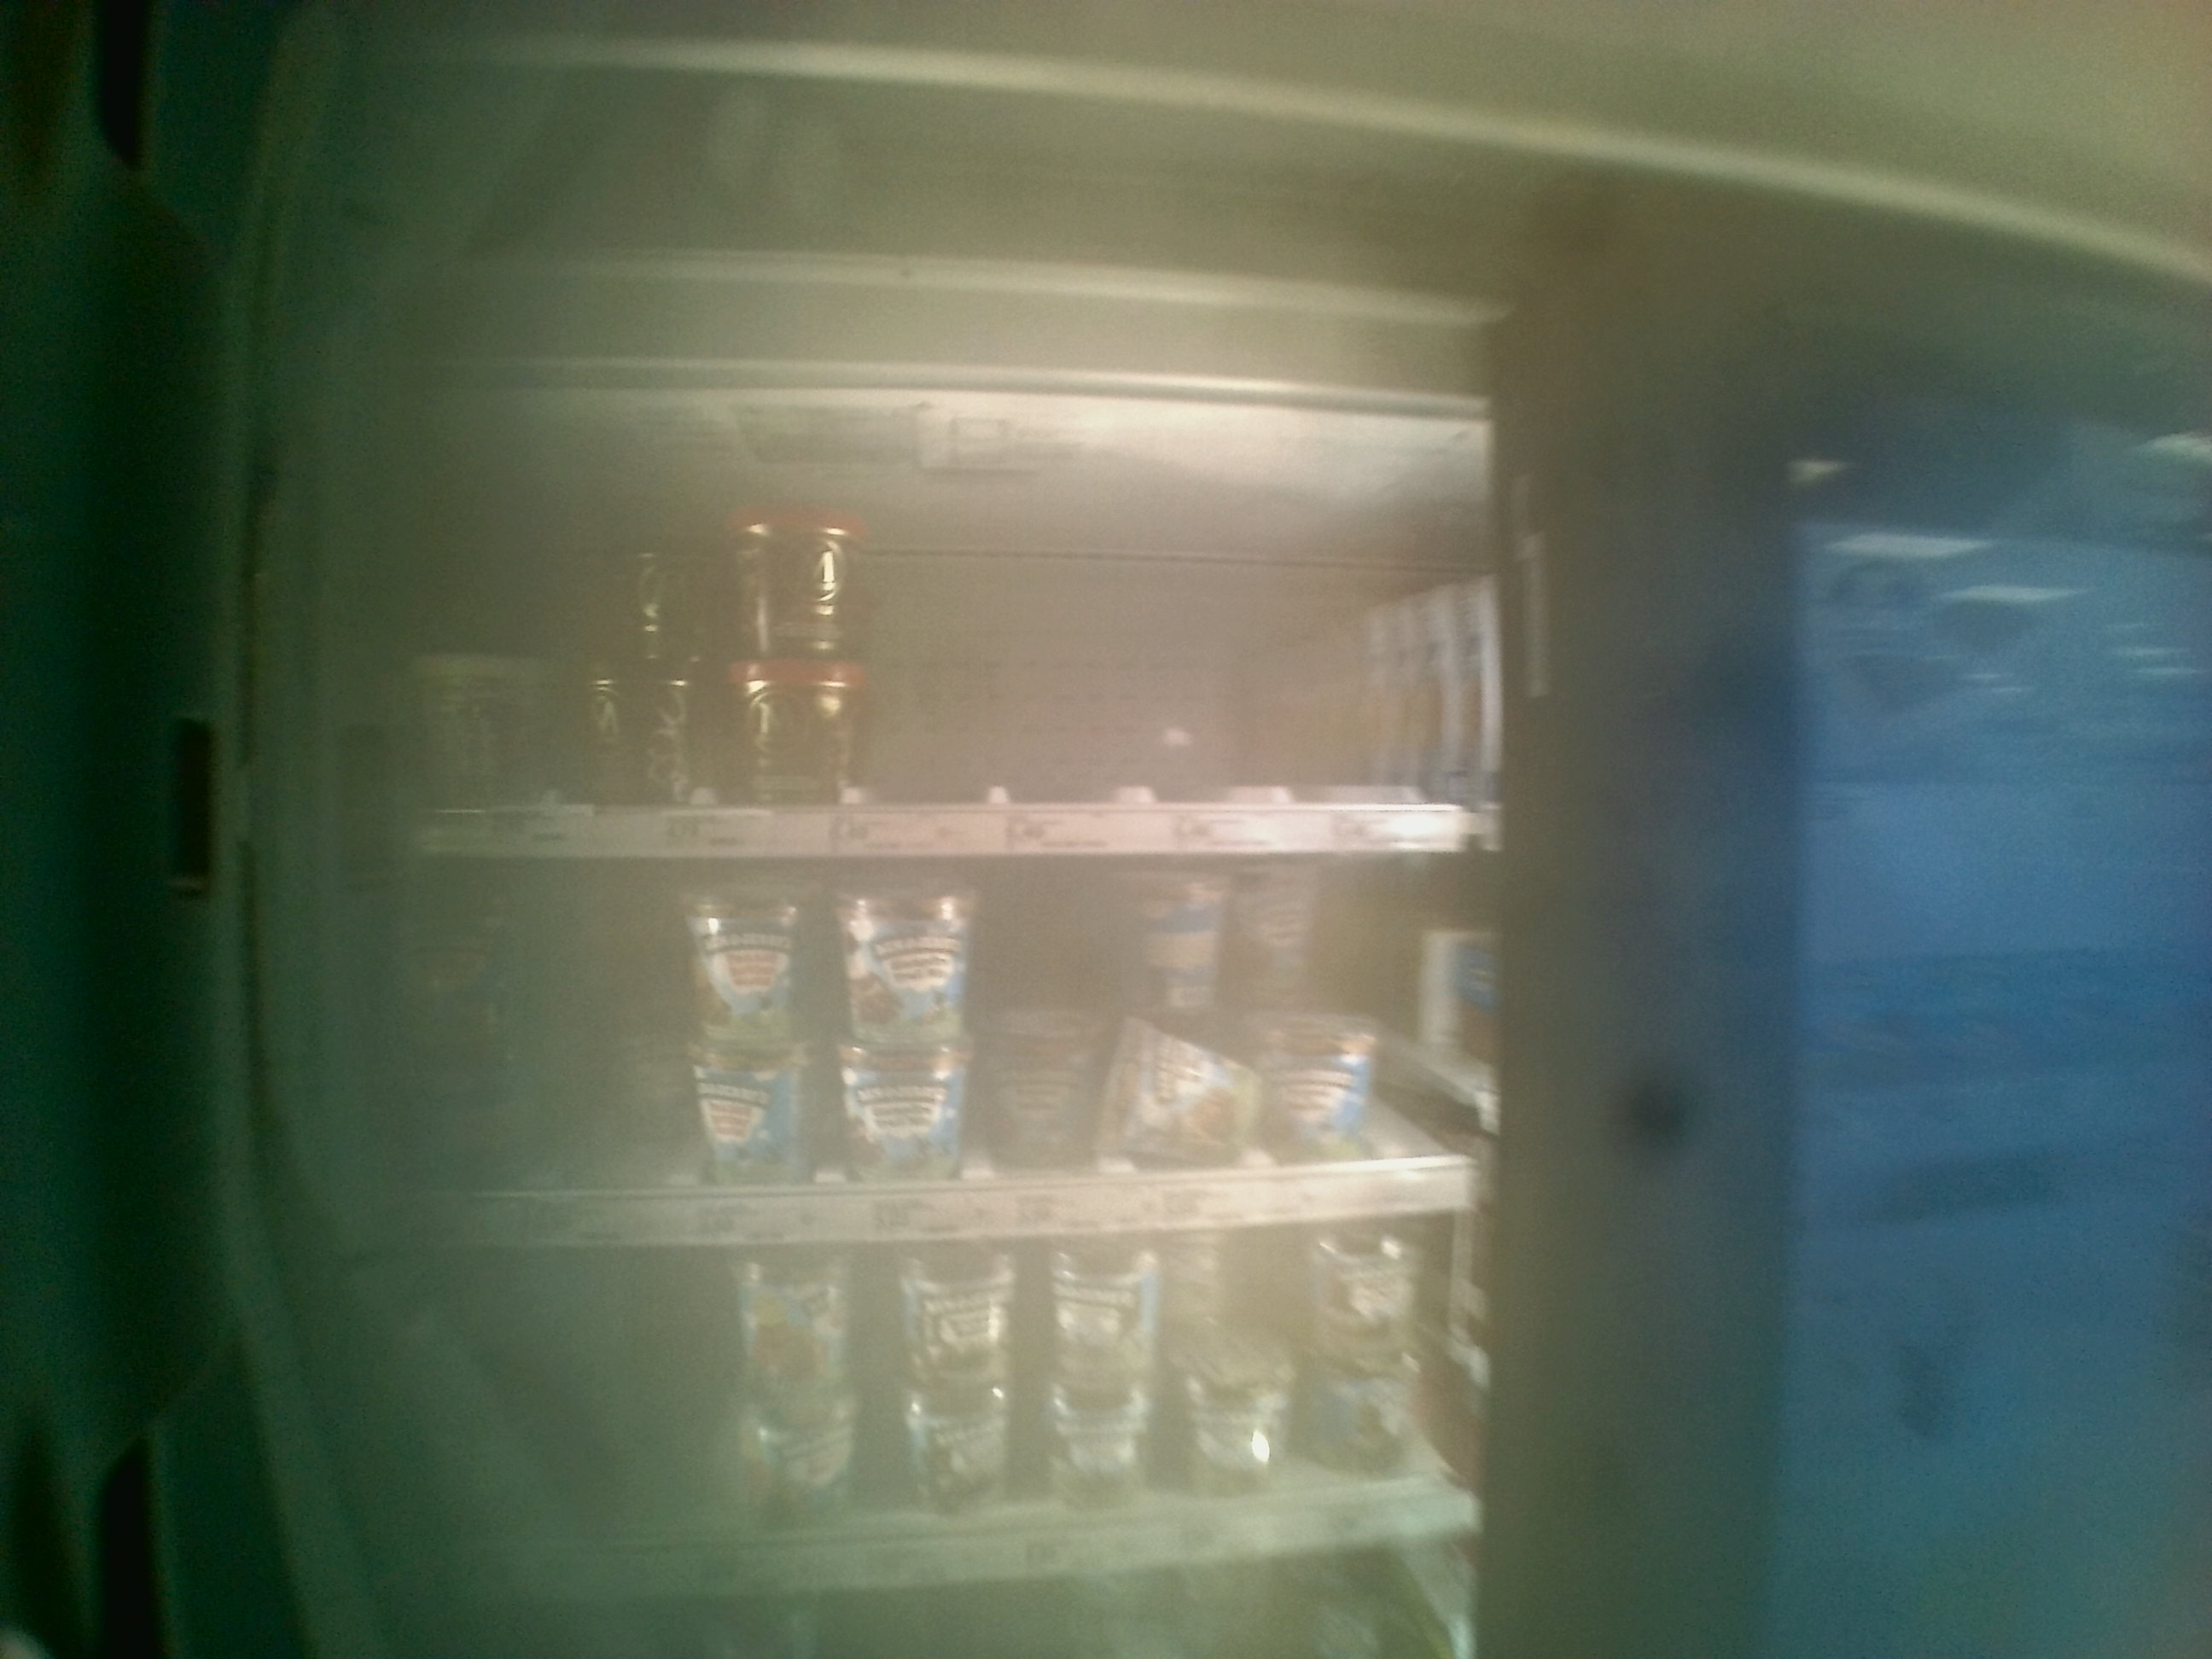shelf: (381, 375, 1503, 852), (376, 863, 1505, 1234)
